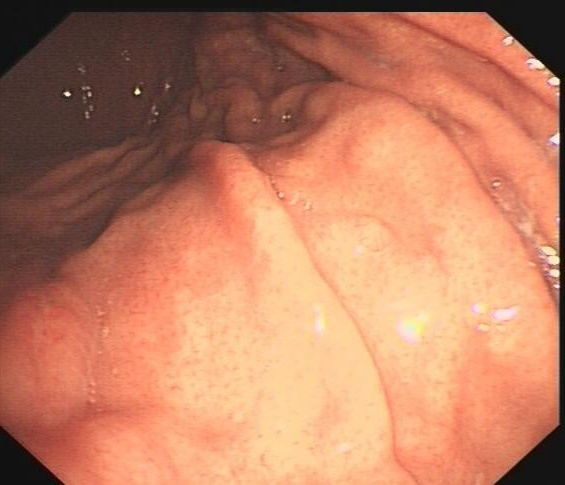Polyp: (330, 193, 413, 274)
